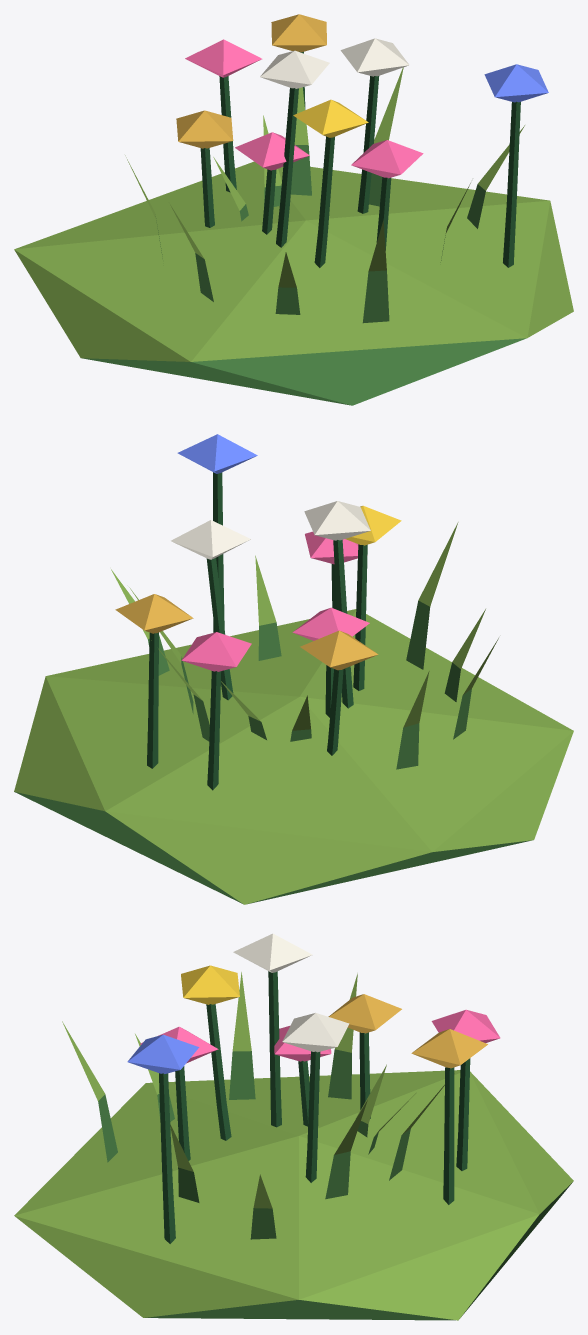
Rendered from flower_patch.glb.
3 views of the same model, one above another, from view 1: azimuth 30°, elevation 25°; view 2: azimuth 150°, elevation 25°; view 3: azimuth 270°, elevation 25° (orthographic). The views are drawn at different scales.
Visible parts, largest first — view 1: Body; view 2: Body; view 3: Body.
Part boxes in pixels (<box>): Body: <box>14,14,573,405</box>; Body: <box>14,434,573,904</box>; Body: <box>14,933,573,1320</box>.
Bounding box in the file's own units: 1.04 × 0.5685 × 1.05.
